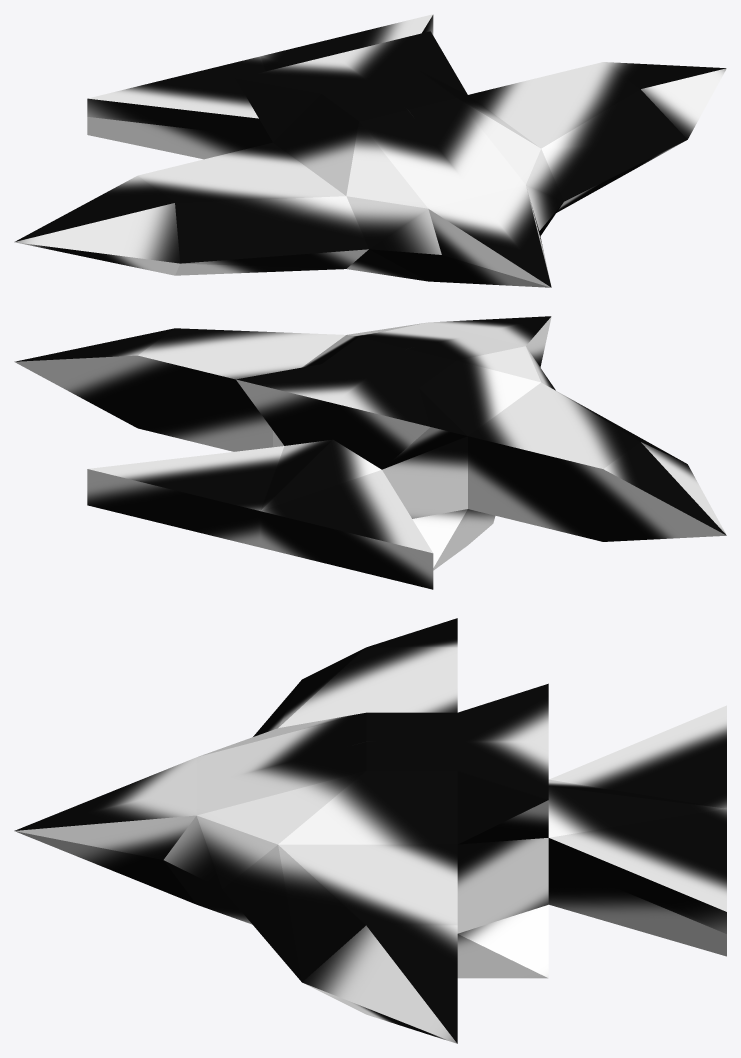
File: player.obj
The picture shows the model from 3 angles, top to bottom: view 1: azimuth 30°, elevation 25°; view 2: azimuth 150°, elevation 25°; view 3: azimuth 270°, elevation 25°; orthographic projection. The views are drawn at different scales.
Parts seen in each view (by area): view 1: Cube; view 2: Cube; view 3: Cube.
Part boxes in pixels (left/top/right/bottom): Cube: left=14, top=14, right=726, bottom=287; Cube: left=14, top=316, right=726, bottom=589; Cube: left=14, top=618, right=726, bottom=1043.
Bounding box in the file's own units: 5.72 × 1.12 × 4.05.
